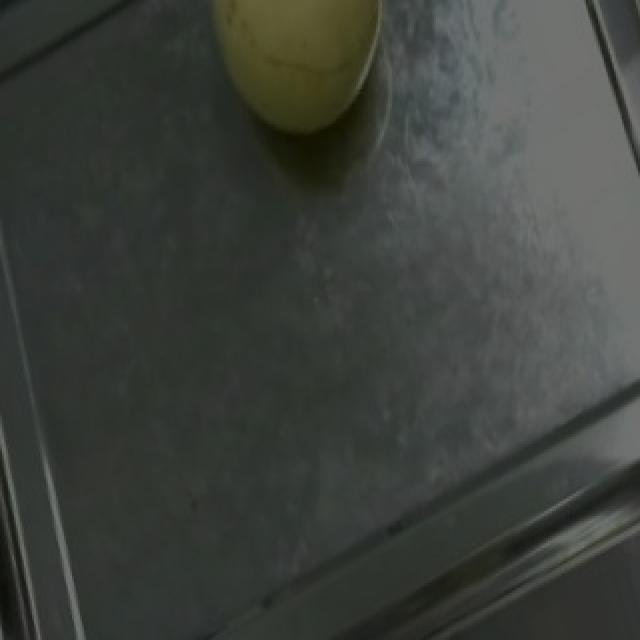Fruit: (170, 0, 420, 166)
